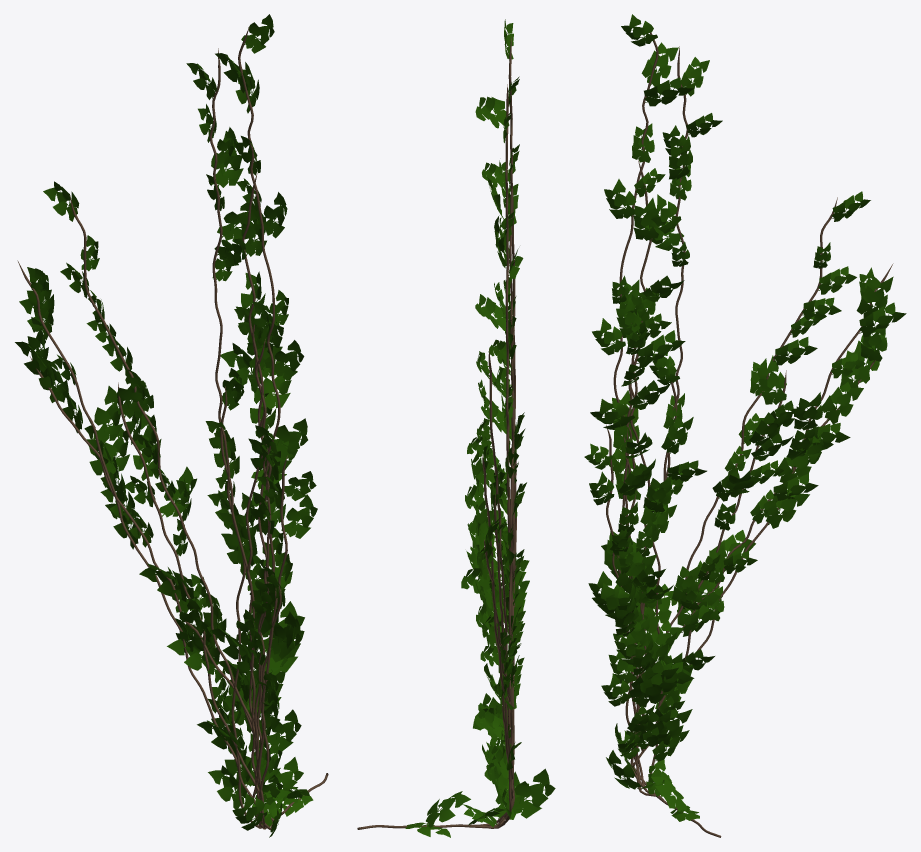
Rendered from Vine01.fbx.
3 renders of one model, left to right at view 1: azimuth 30°, elevation 25°; view 2: azimuth 150°, elevation 25°; view 3: azimuth 270°, elevation 25°, orthographic. The views are drawn at different scales.
Visible parts, largest first — view 1: Vines02; view 2: Vines02; view 3: Vines02.
Part boxes in pixels (x1,y1,x2,y2): Vines02: [15, 14, 328, 837]; Vines02: [357, 19, 555, 837]; Vines02: [584, 14, 906, 837].
Bounding box in the file's own units: 1.55 × 5.42 × 2.03.
